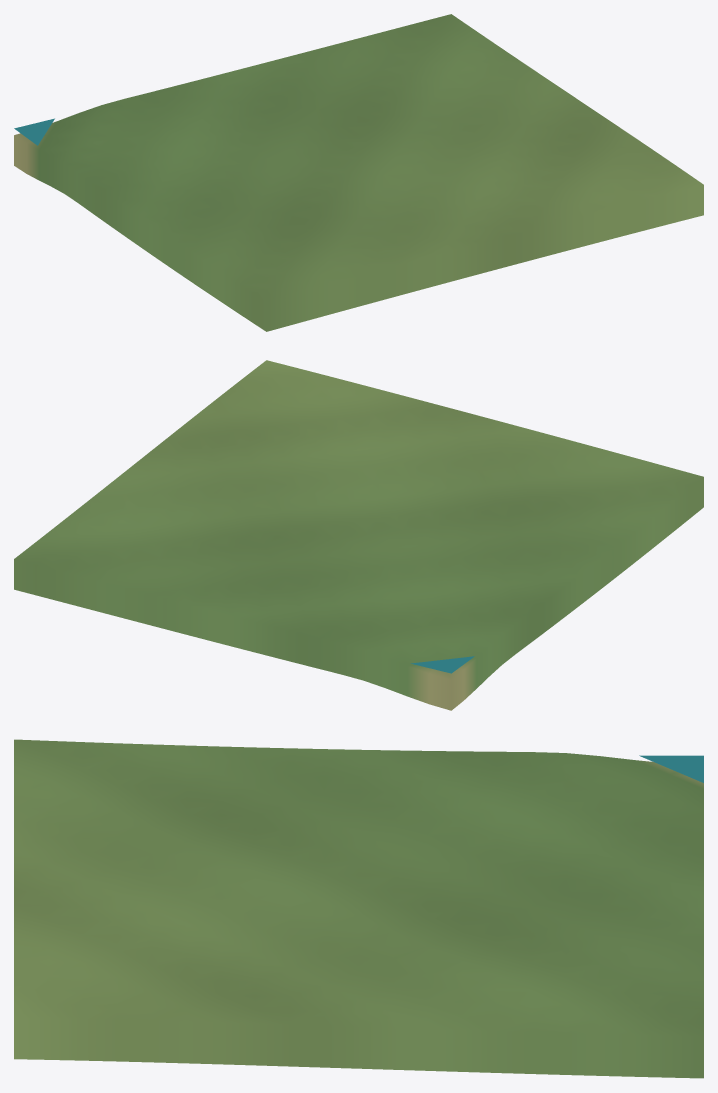
3 renders of one model, top to bottom at view 1: azimuth 30°, elevation 25°; view 2: azimuth 150°, elevation 25°; view 3: azimuth 270°, elevation 25°, orthographic. The views are drawn at different scales.
Parts seen in each view (by area): view 1: terrain, scenery; view 2: terrain; view 3: terrain, scenery.
Part boxes in pixels (<box>): terrain: <box>14,14,703,331</box>; scenery: <box>14,118,54,145</box>; terrain: <box>14,360,703,710</box>; terrain: <box>14,739,703,1078</box>; scenery: <box>639,755,703,782</box>.
Size of the model in its own units: 30 by 3.87 by 30.
